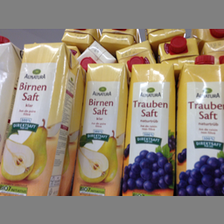juice: (2, 42, 76, 195), (71, 63, 129, 195), (121, 59, 176, 194), (175, 54, 224, 197)
